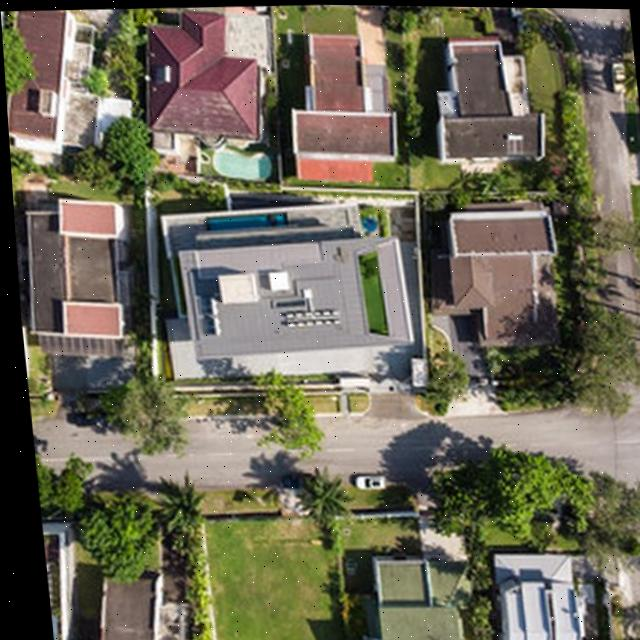building: (148, 188, 423, 376), (12, 179, 143, 370), (40, 510, 220, 640), (137, 4, 278, 162), (435, 187, 567, 355), (423, 29, 554, 165), (0, 7, 119, 152), (287, 24, 390, 178), (487, 537, 630, 640), (344, 532, 462, 640)
